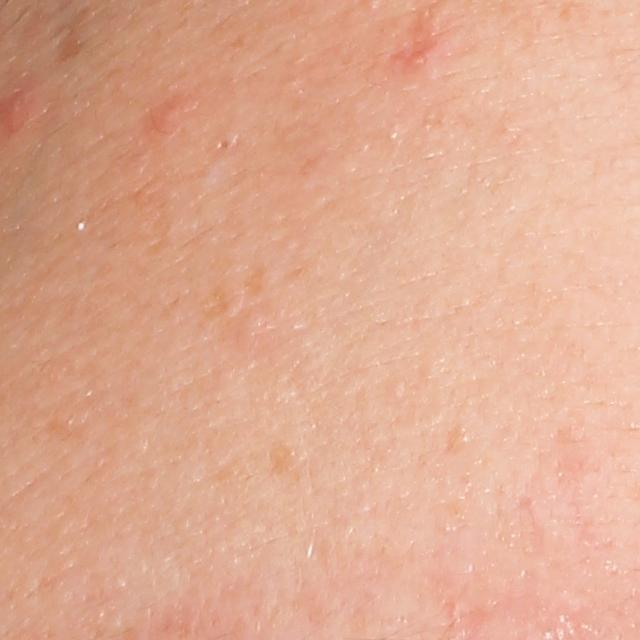melasma: (264, 438, 299, 485)
papule: (142, 87, 204, 144), (405, 49, 429, 71)
